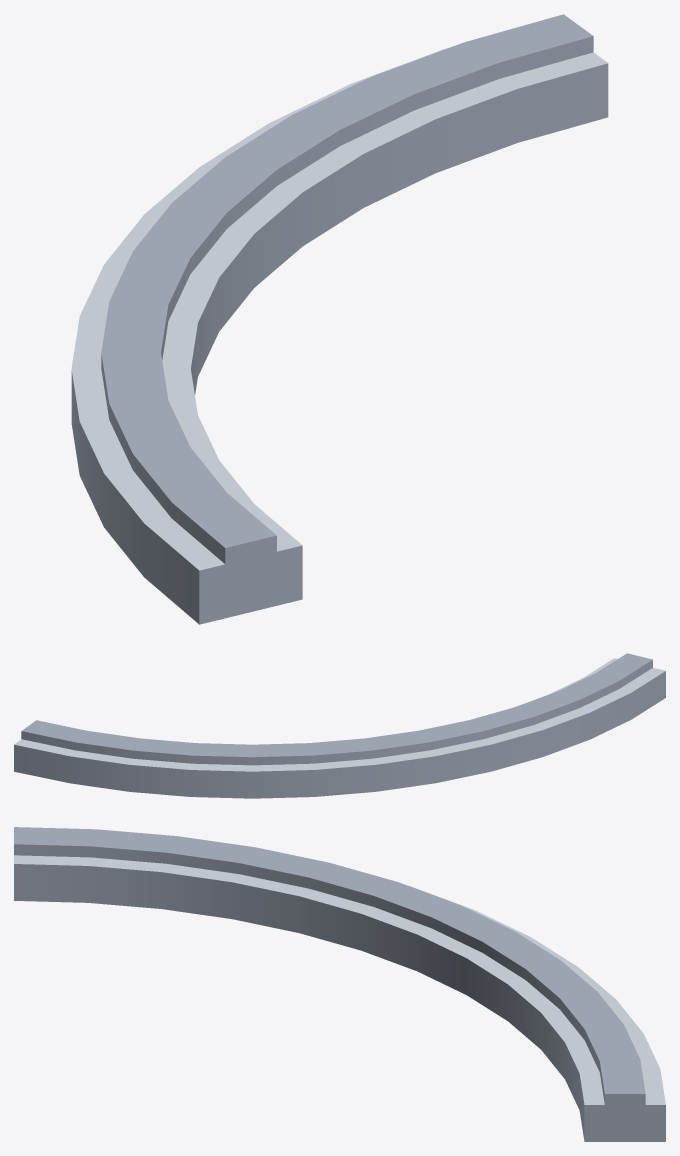
Rendered from monorail_trackCornerLarge.glb.
3 renders of one model, top to bottom at view 1: azimuth 30°, elevation 25°; view 2: azimuth 150°, elevation 25°; view 3: azimuth 270°, elevation 25°, orthographic. The views are drawn at different scales.
Visible parts, largest first — view 1: monorail_trackCornerLarge; view 2: monorail_trackCornerLarge; view 3: monorail_trackCornerLarge.
Boxes of the visible parts, left/top/right/bottom form: monorail_trackCornerLarge: left=71, top=14, right=608, bottom=624; monorail_trackCornerLarge: left=14, top=653, right=665, bottom=798; monorail_trackCornerLarge: left=14, top=827, right=665, bottom=1141.
Bounding box in the file's own units: 1.6 × 0.13 × 1.6.
